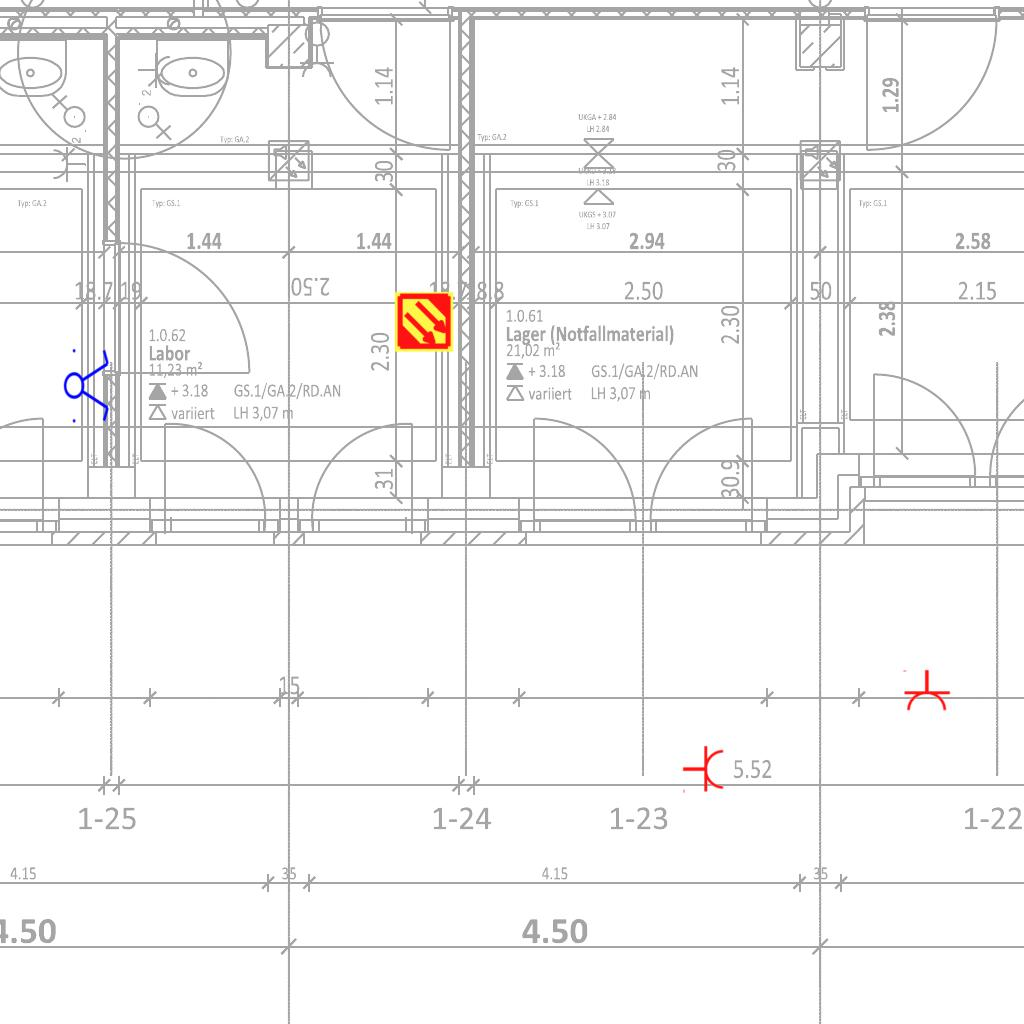ASR_Ansaugrauchmelder: (393, 291, 455, 353)
Schukosteckdose_einfach: (901, 669, 951, 712), (682, 745, 725, 795)
Serienschalter: (63, 343, 111, 427)
